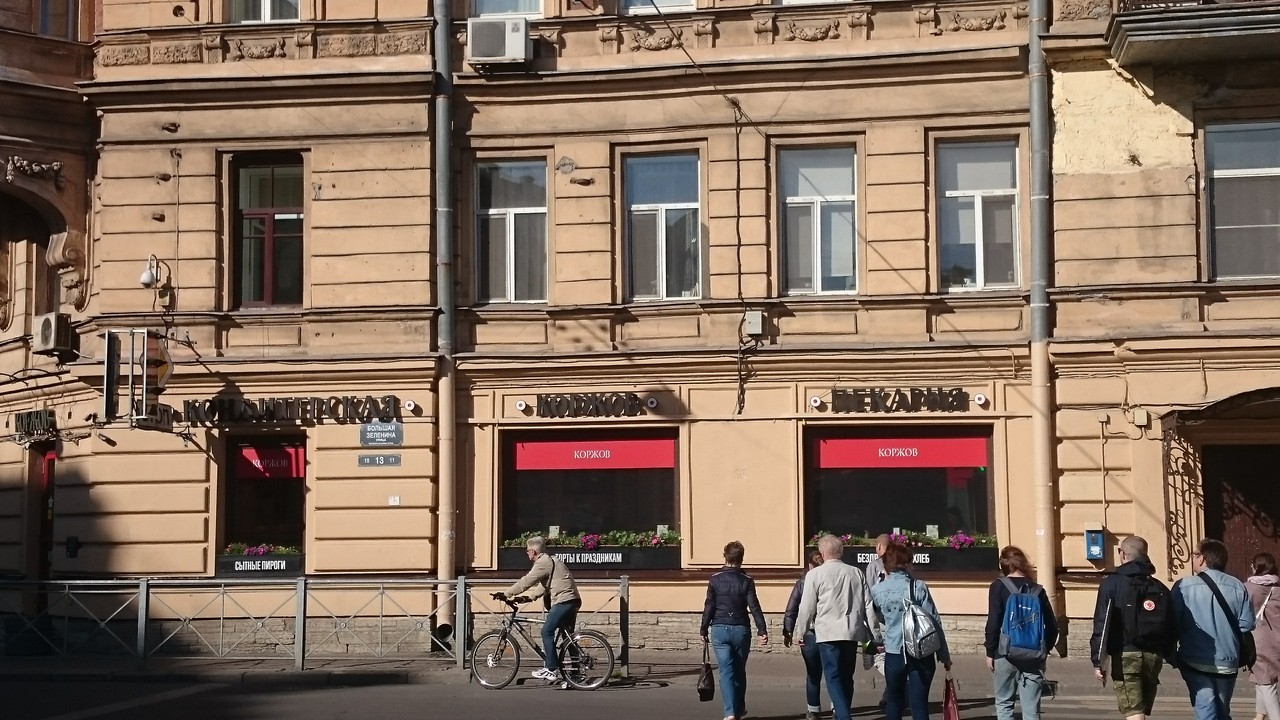signboard: (182, 395, 413, 420), (810, 388, 985, 412), (517, 391, 660, 417)
window: (494, 424, 679, 572), (806, 419, 987, 566), (218, 432, 306, 578), (230, 157, 304, 312), (778, 146, 856, 292), (938, 142, 1014, 290), (625, 152, 697, 301), (474, 161, 546, 304)
